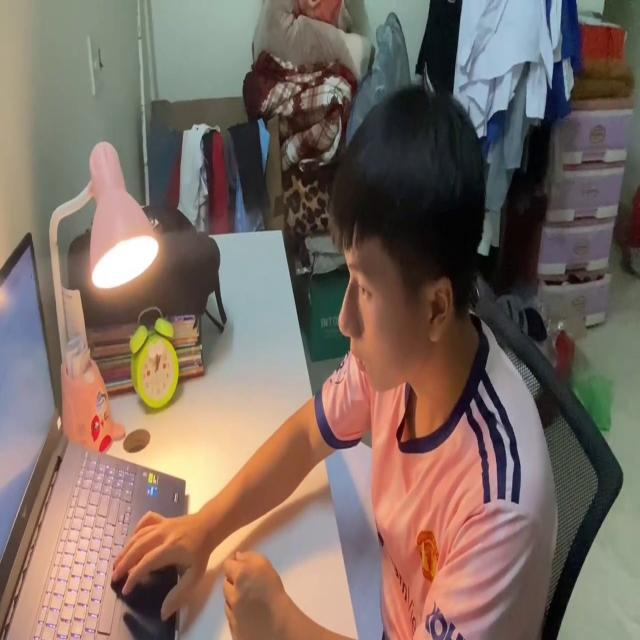book: (321, 433, 385, 640)
laptop: (0, 232, 191, 640)
student: (113, 82, 558, 640)
